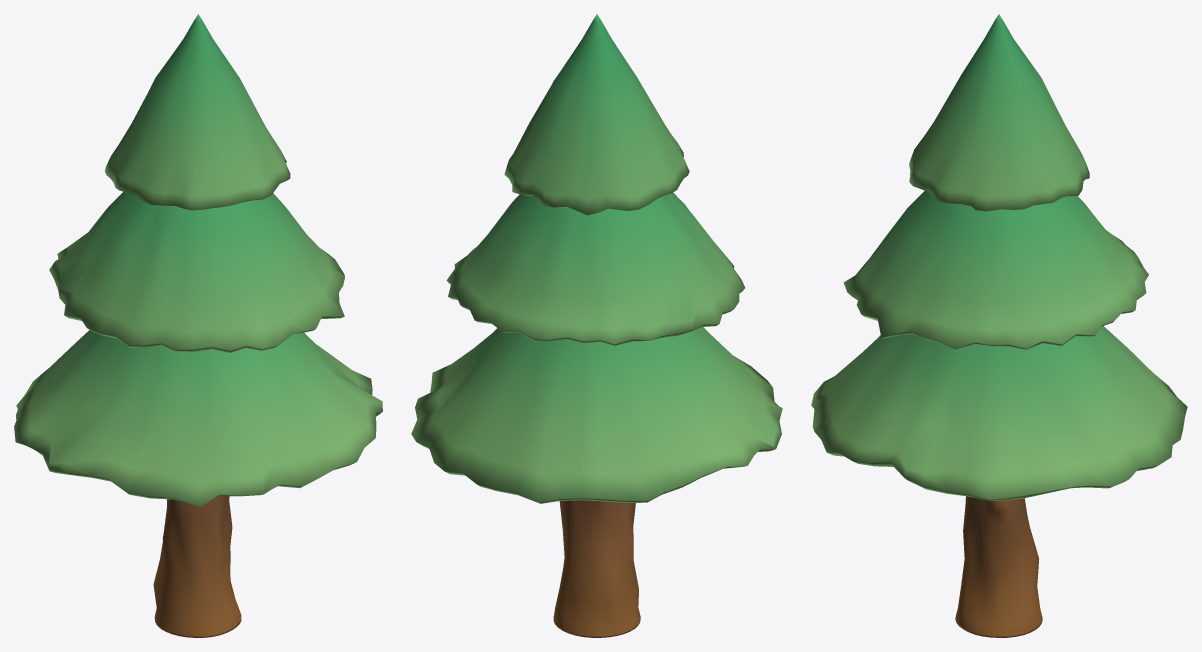
The model's file is tree1.fbx.
The picture shows the model from 3 angles, left to right: view 1: azimuth 30°, elevation 25°; view 2: azimuth 150°, elevation 25°; view 3: azimuth 270°, elevation 25°; orthographic projection.
Visible parts, largest first — view 1: TreeLeavesBottom, LeavesMid, LeavesBot, Tree; view 2: TreeLeavesBottom, LeavesMid, LeavesBot, Tree; view 3: TreeLeavesBottom, LeavesMid, LeavesBot, Tree.
Boxes of the visible parts, <box> form: TreeLeavesBottom: <box>14,330,382,506</box>; LeavesMid: <box>49,191,344,352</box>; LeavesBot: <box>105,14,290,210</box>; Tree: <box>153,496,241,637</box>; TreeLeavesBottom: <box>411,327,782,503</box>; LeavesMid: <box>446,192,745,345</box>; LeavesBot: <box>504,14,689,215</box>; Tree: <box>553,500,640,637</box>; TreeLeavesBottom: <box>811,326,1187,500</box>; LeavesMid: <box>843,191,1148,349</box>; LeavesBot: <box>909,14,1089,211</box>; Tree: <box>955,496,1042,637</box>.
Bounding box in the file's own units: 254 × 438 × 247.
